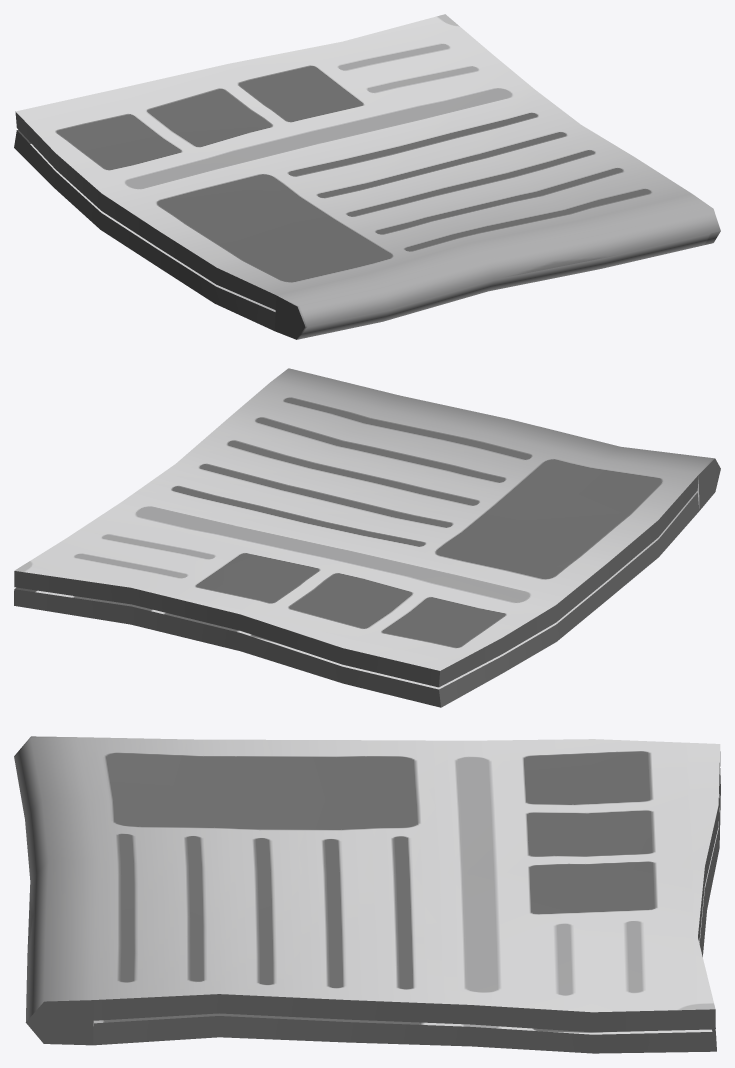
File: newspaper.glb
The picture shows the model from 3 angles, top to bottom: view 1: azimuth 30°, elevation 25°; view 2: azimuth 150°, elevation 25°; view 3: azimuth 270°, elevation 25°; orthographic projection. The views are drawn at different scales.
Visible parts, largest first — view 1: NewsPaper; view 2: NewsPaper; view 3: NewsPaper.
Part boxes in pixels (x1=…): NewsPaper: x1=14, y1=14, x2=720, y2=339; NewsPaper: x1=14, y1=368, x2=720, y2=707; NewsPaper: x1=14, y1=736, x2=720, y2=1053.
Bounding box in the file's own units: 0.4769 × 0.0524 × 0.5317.
Materials: 1 (1 with a texture image).
